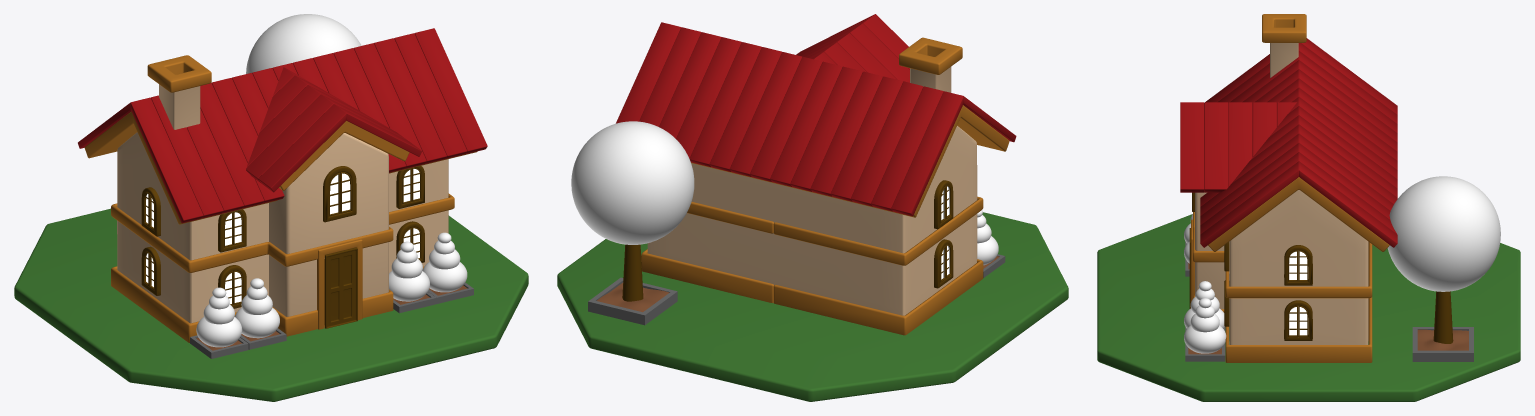
File: house_1.glb
The picture shows the model from 3 angles, left to right: view 1: azimuth 30°, elevation 25°; view 2: azimuth 150°, elevation 25°; view 3: azimuth 270°, elevation 25°; orthographic projection. The views are drawn at different scales.
Visible parts, largest first — view 1: Cube.204, Cube.005, Cube, Cube.001, Cube.007, Vert.001, Sphere.006, Vert, Cube.003, Plane.001, Plane.002, Cube.004 (+17 smaller); view 2: Cube.204, Cube.005, Cube, Sphere.006, Vert, Cube.007, Vert.001, Cube.003, Cube.004, Cube.085, Cylinder.016, Plane.010 (+3 smaller); view 3: Cube.204, Cube.005, Cube, Sphere.006, Cube.007, Vert, Vert.001, Cube.004, Cube.003, Cube.001, Cube.085, Plane.010 (+8 smaller).
Part boxes in pixels (x1,y1,x2,y2): Cube.204: (14,208,528,401); Cube.005: (78,28,487,223); Cube: (117,132,448,323); Cube.001: (269,133,388,316); Cube.007: (246,67,422,192); Vert.001: (111,193,454,272); Sphere.006: (246,14,361,73); Vert: (111,266,423,342); Cube.003: (147,55,211,129); Plane.001: (324,247,357,328); Plane.002: (218,166,424,308); Cube.004: (84,111,477,224); Cube.204: (557,212,1068,401); Cube.005: (616,22,1016,216); Cube: (647,126,977,315); Sphere.006: (571,121,694,244); Vert: (641,249,983,335); Cube.007: (796,14,909,82); Vert.001: (687,196,983,265); Cube.003: (899,37,962,92); Cube.004: (691,105,1009,217); Cube.085: (588,277,677,325); Cylinder.016: (622,244,643,301); Plane.010: (934,180,953,288); Cube.204: (1097,214,1520,401); Cube.005: (1200,38,1397,247); Cube: (1229,190,1368,344); Sphere.006: (1387,176,1500,291); Cube.007: (1180,102,1296,192); Vert: (1193,295,1372,362); Vert.001: (1193,212,1372,298); Cube.004: (1208,177,1389,251); Cube.003: (1262,14,1306,77); Cube.001: (1195,192,1229,309); Cube.085: (1412,327,1473,361); Plane.010: (1284,245,1312,340).
Bounding box in the file's own units: 7.37 × 4.57 × 7.27.
